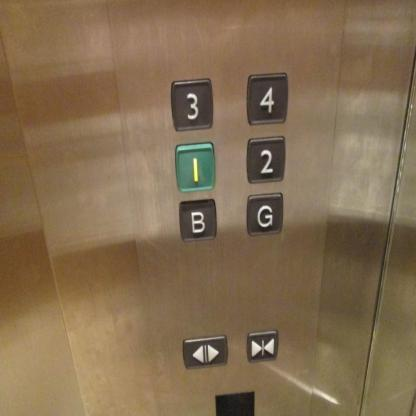1: (174, 140, 216, 192)
2: (244, 132, 287, 185)
3: (170, 79, 213, 131)
4: (244, 69, 291, 127)
B: (178, 198, 218, 240)
G: (244, 190, 286, 236)
close: (246, 328, 280, 365)
open: (181, 331, 230, 369)
